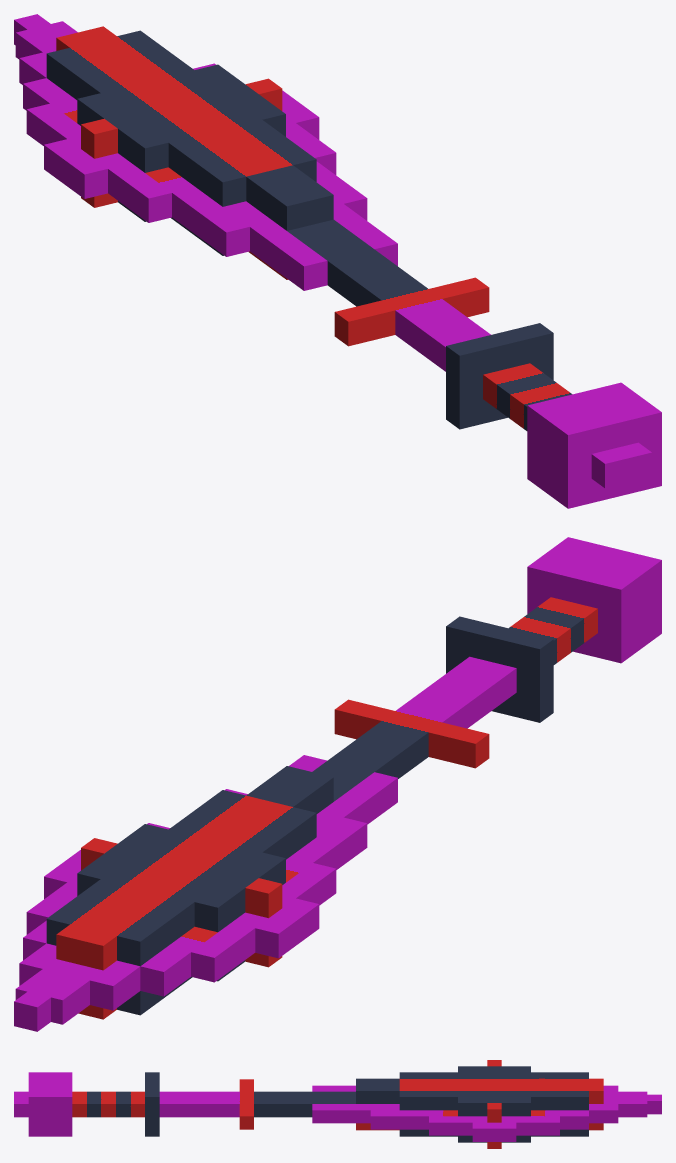
Rendered from c7b5edfe-d51e-47c9-a35d-255c0ee924db.gltf.
The picture shows the model from 3 angles, top to bottom: view 1: azimuth 30°, elevation 25°; view 2: azimuth 150°, elevation 25°; view 3: azimuth 270°, elevation 25°; orthographic projection. The views are drawn at different scales.
Parts seen in each view (by area): view 1: blade-Local, Equip_Right_Hand-Local; view 2: blade-Local, Equip_Right_Hand-Local, Handle-Local; view 3: blade-Local, Equip_Right_Hand-Local, Handle-Local.
Boxes of the visible parts, bbox=[...] form: blade-Local: bbox=[15, 21, 489, 348]; Equip_Right_Hand-Local: bbox=[415, 313, 661, 508]; blade-Local: bbox=[15, 691, 489, 1024]; Equip_Right_Hand-Local: bbox=[416, 537, 661, 727]; Handle-Local: bbox=[14, 991, 50, 1031]; blade-Local: bbox=[218, 1060, 647, 1148]; Equip_Right_Hand-Local: bbox=[14, 1072, 217, 1136]; Handle-Local: bbox=[647, 1094, 661, 1114].
Bounding box in the file's own units: 10 × 3 × 44.48.
3 materials, 3 textured.
